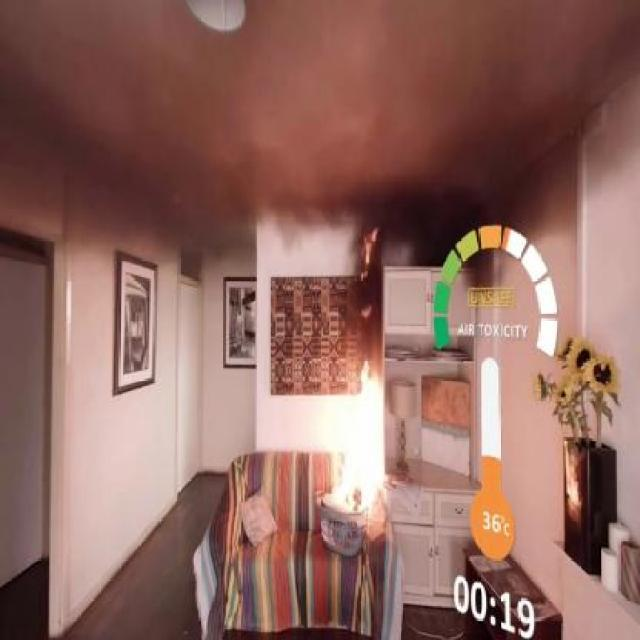fire: (300, 341, 385, 557)
smoke: (296, 170, 456, 298)
